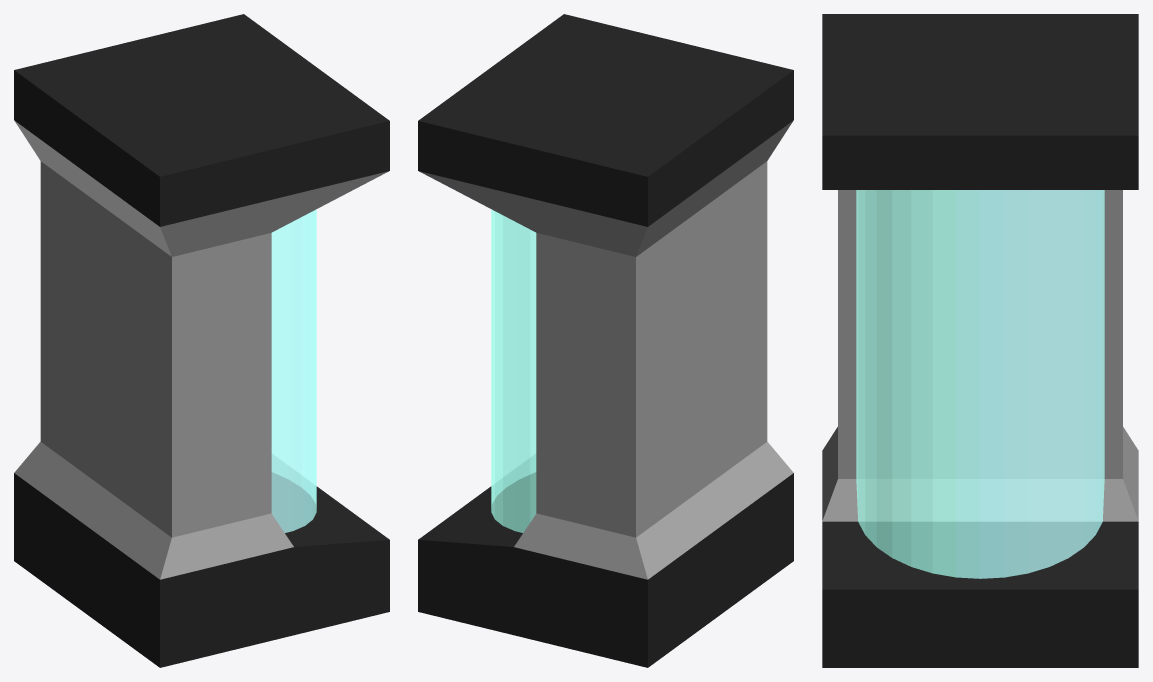
3 renders of one model, left to right at view 1: azimuth 30°, elevation 25°; view 2: azimuth 150°, elevation 25°; view 3: azimuth 270°, elevation 25°, orthographic. The views are drawn at different scales.
Parts seen in each view (by area): view 1: Cylinder; view 2: Cylinder; view 3: Cylinder.
Part boxes in pixels (x1,y1,x2,y2): Cylinder: (14, 14, 389, 667); Cylinder: (418, 14, 793, 667); Cylinder: (822, 14, 1138, 667).
Bounding box in the file's own units: 3 × 6.13 × 3.3.
